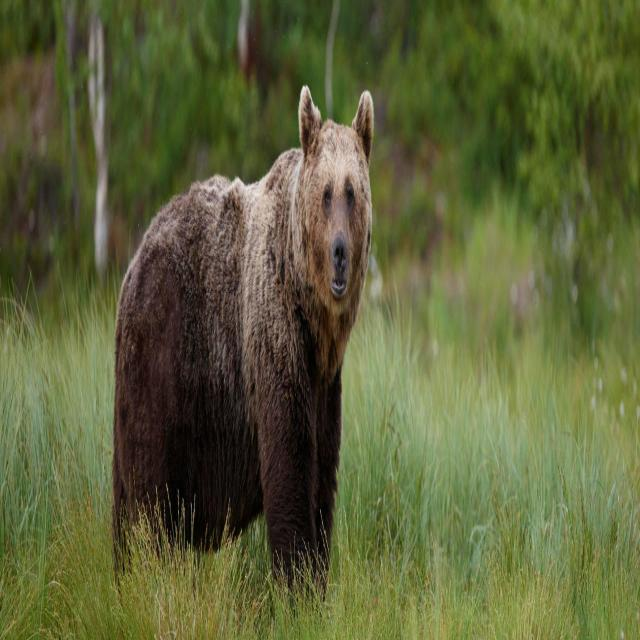Bear: (110, 87, 375, 596)
